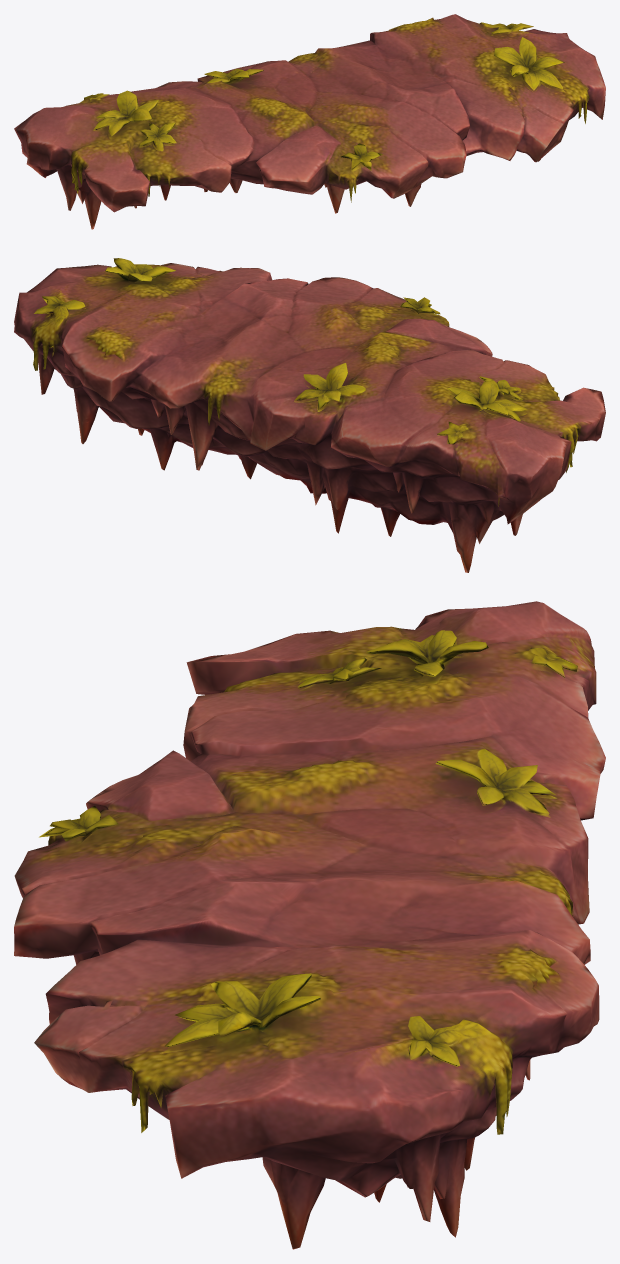
Rendered from cave-roof.glb.
3 renders of one model, top to bottom at view 1: azimuth 30°, elevation 25°; view 2: azimuth 150°, elevation 25°; view 3: azimuth 270°, elevation 25°, orthographic. The views are drawn at different scales.
Visible parts, largest first — view 1: tripo_node_fd0dfa66-eae2-4faa-ab65-f9ad4d3bf890; view 2: tripo_node_fd0dfa66-eae2-4faa-ab65-f9ad4d3bf890; view 3: tripo_node_fd0dfa66-eae2-4faa-ab65-f9ad4d3bf890.
Boxes of the visible parts, box(x1,y1,x2,y2) form: tripo_node_fd0dfa66-eae2-4faa-ab65-f9ad4d3bf890: box(14, 14, 605, 229); tripo_node_fd0dfa66-eae2-4faa-ab65-f9ad4d3bf890: box(14, 258, 605, 572); tripo_node_fd0dfa66-eae2-4faa-ab65-f9ad4d3bf890: box(14, 601, 605, 1249).
Size of the model in its own units: 1 by 0.2649 by 0.4995.
1 material, 1 textured.
